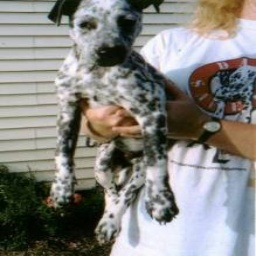dog: (50, 1, 190, 229)
